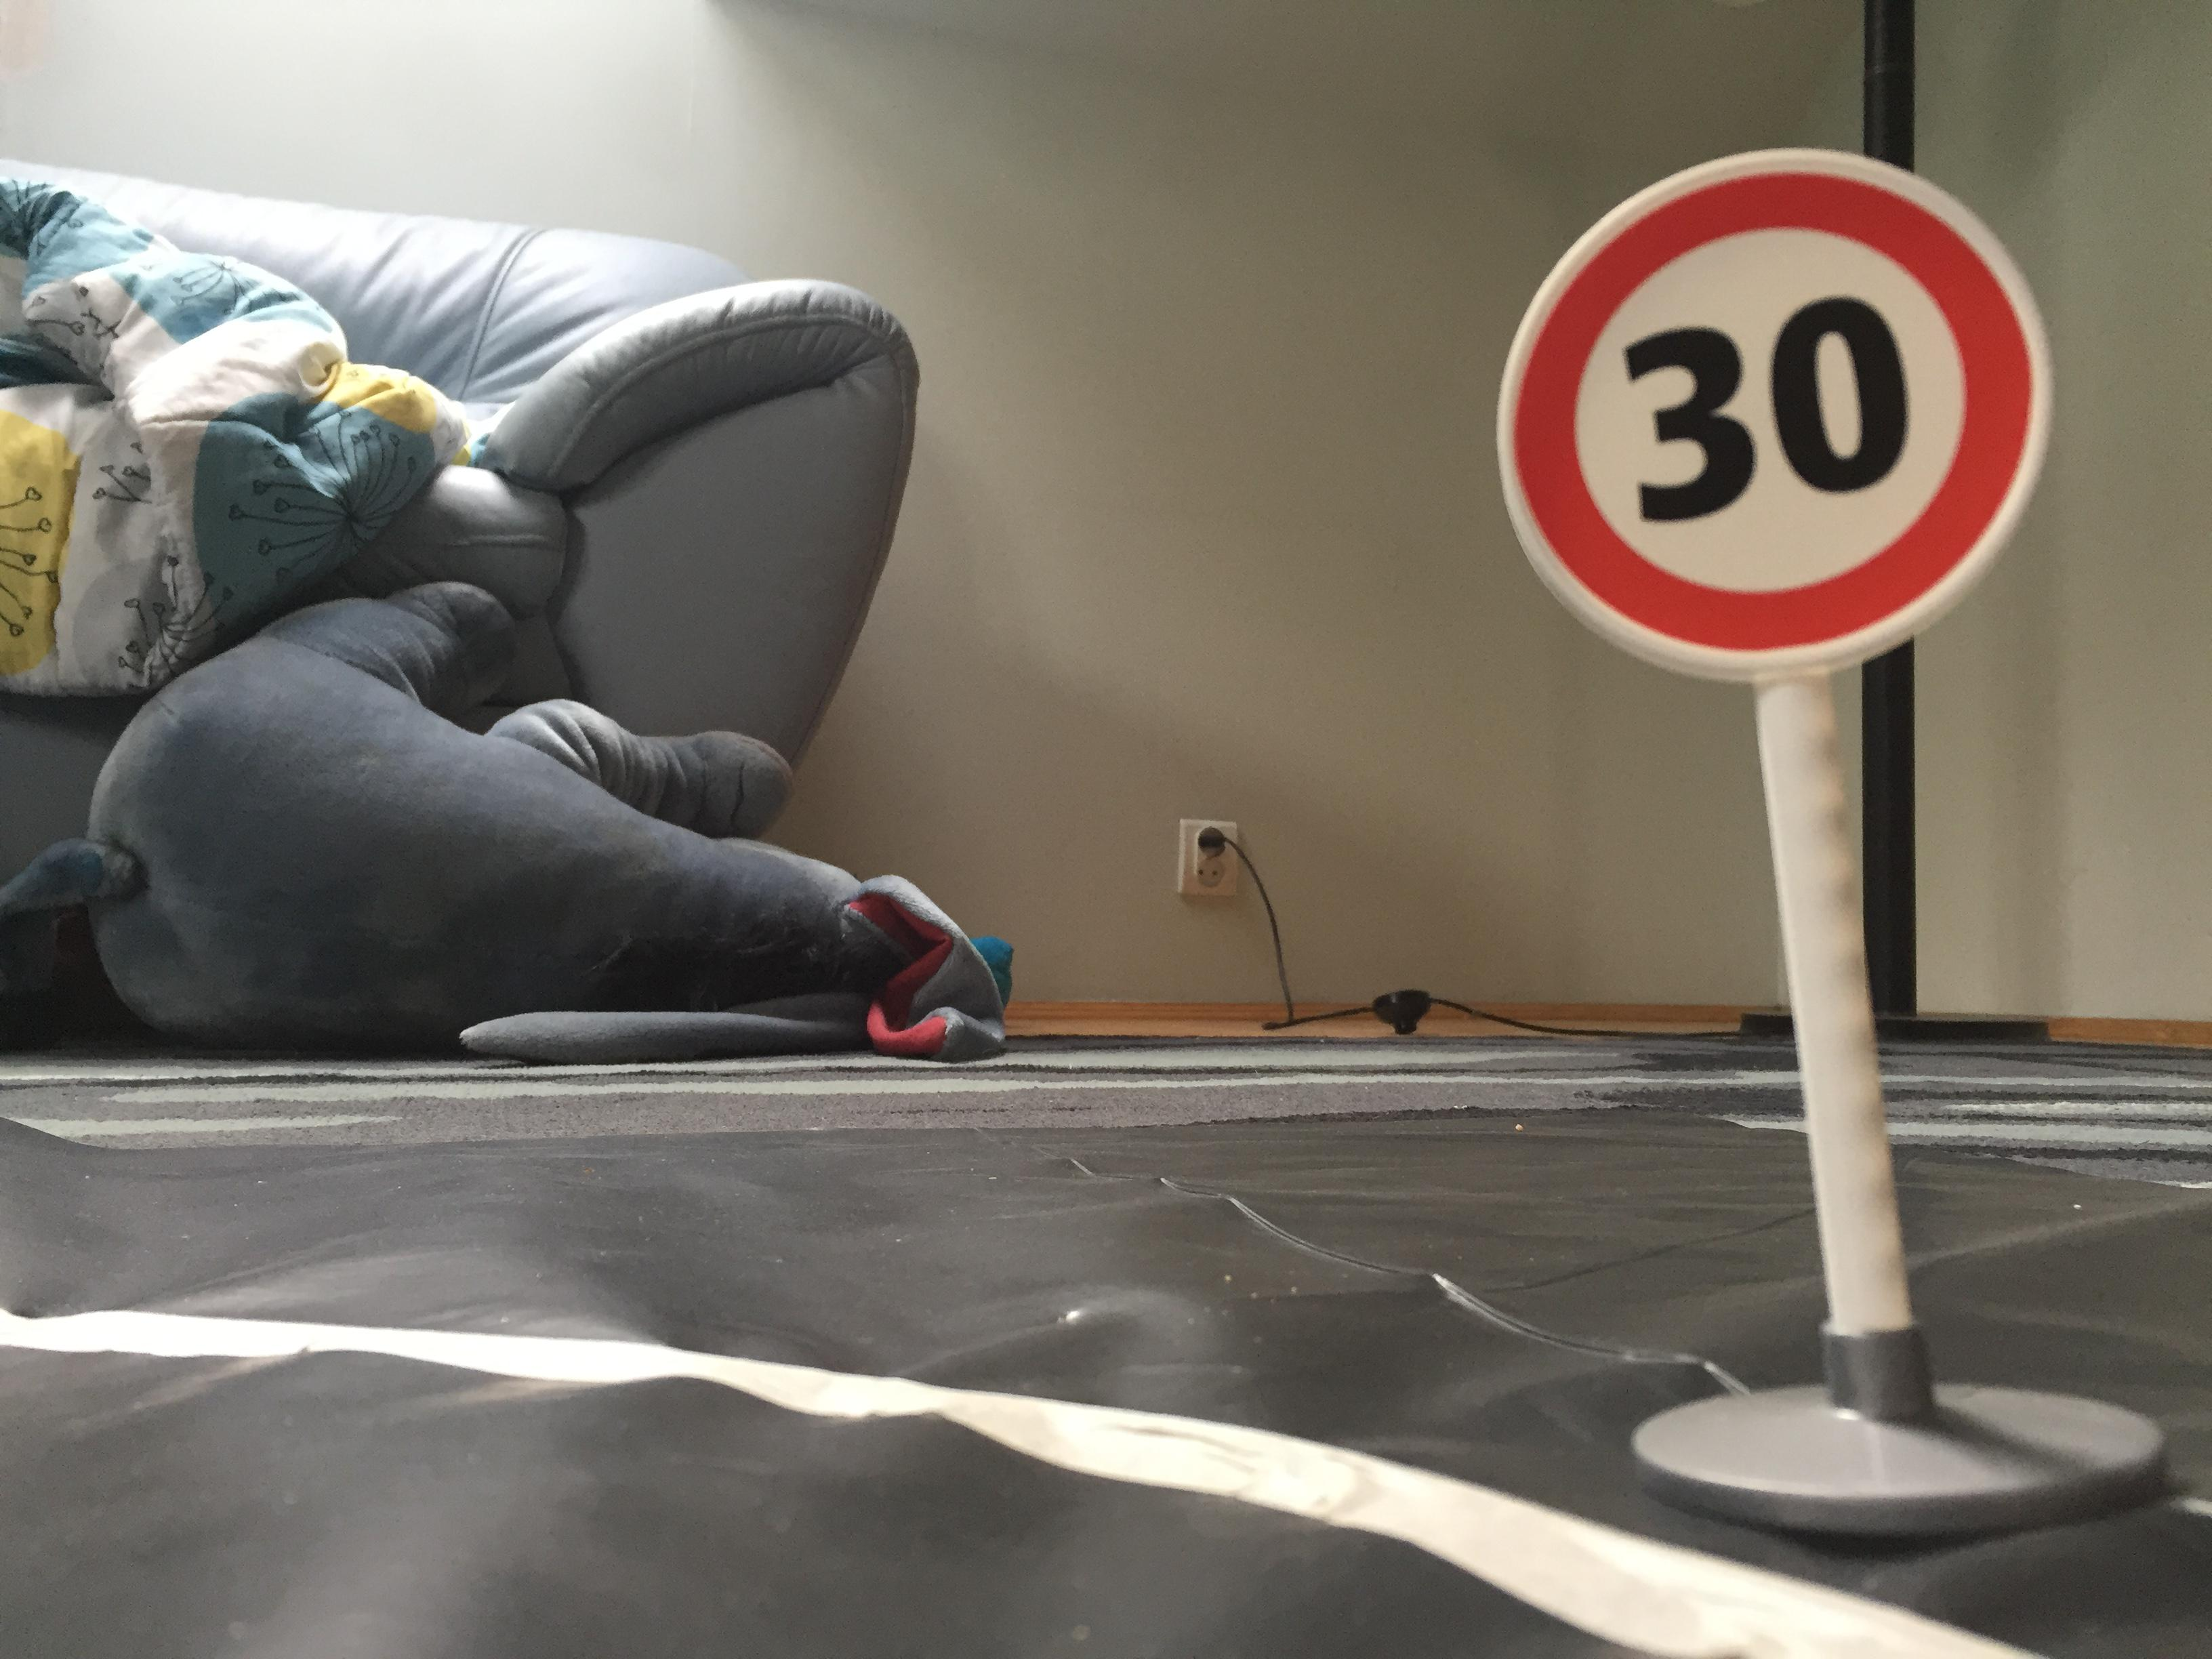speed: (1477, 139, 2066, 697)
